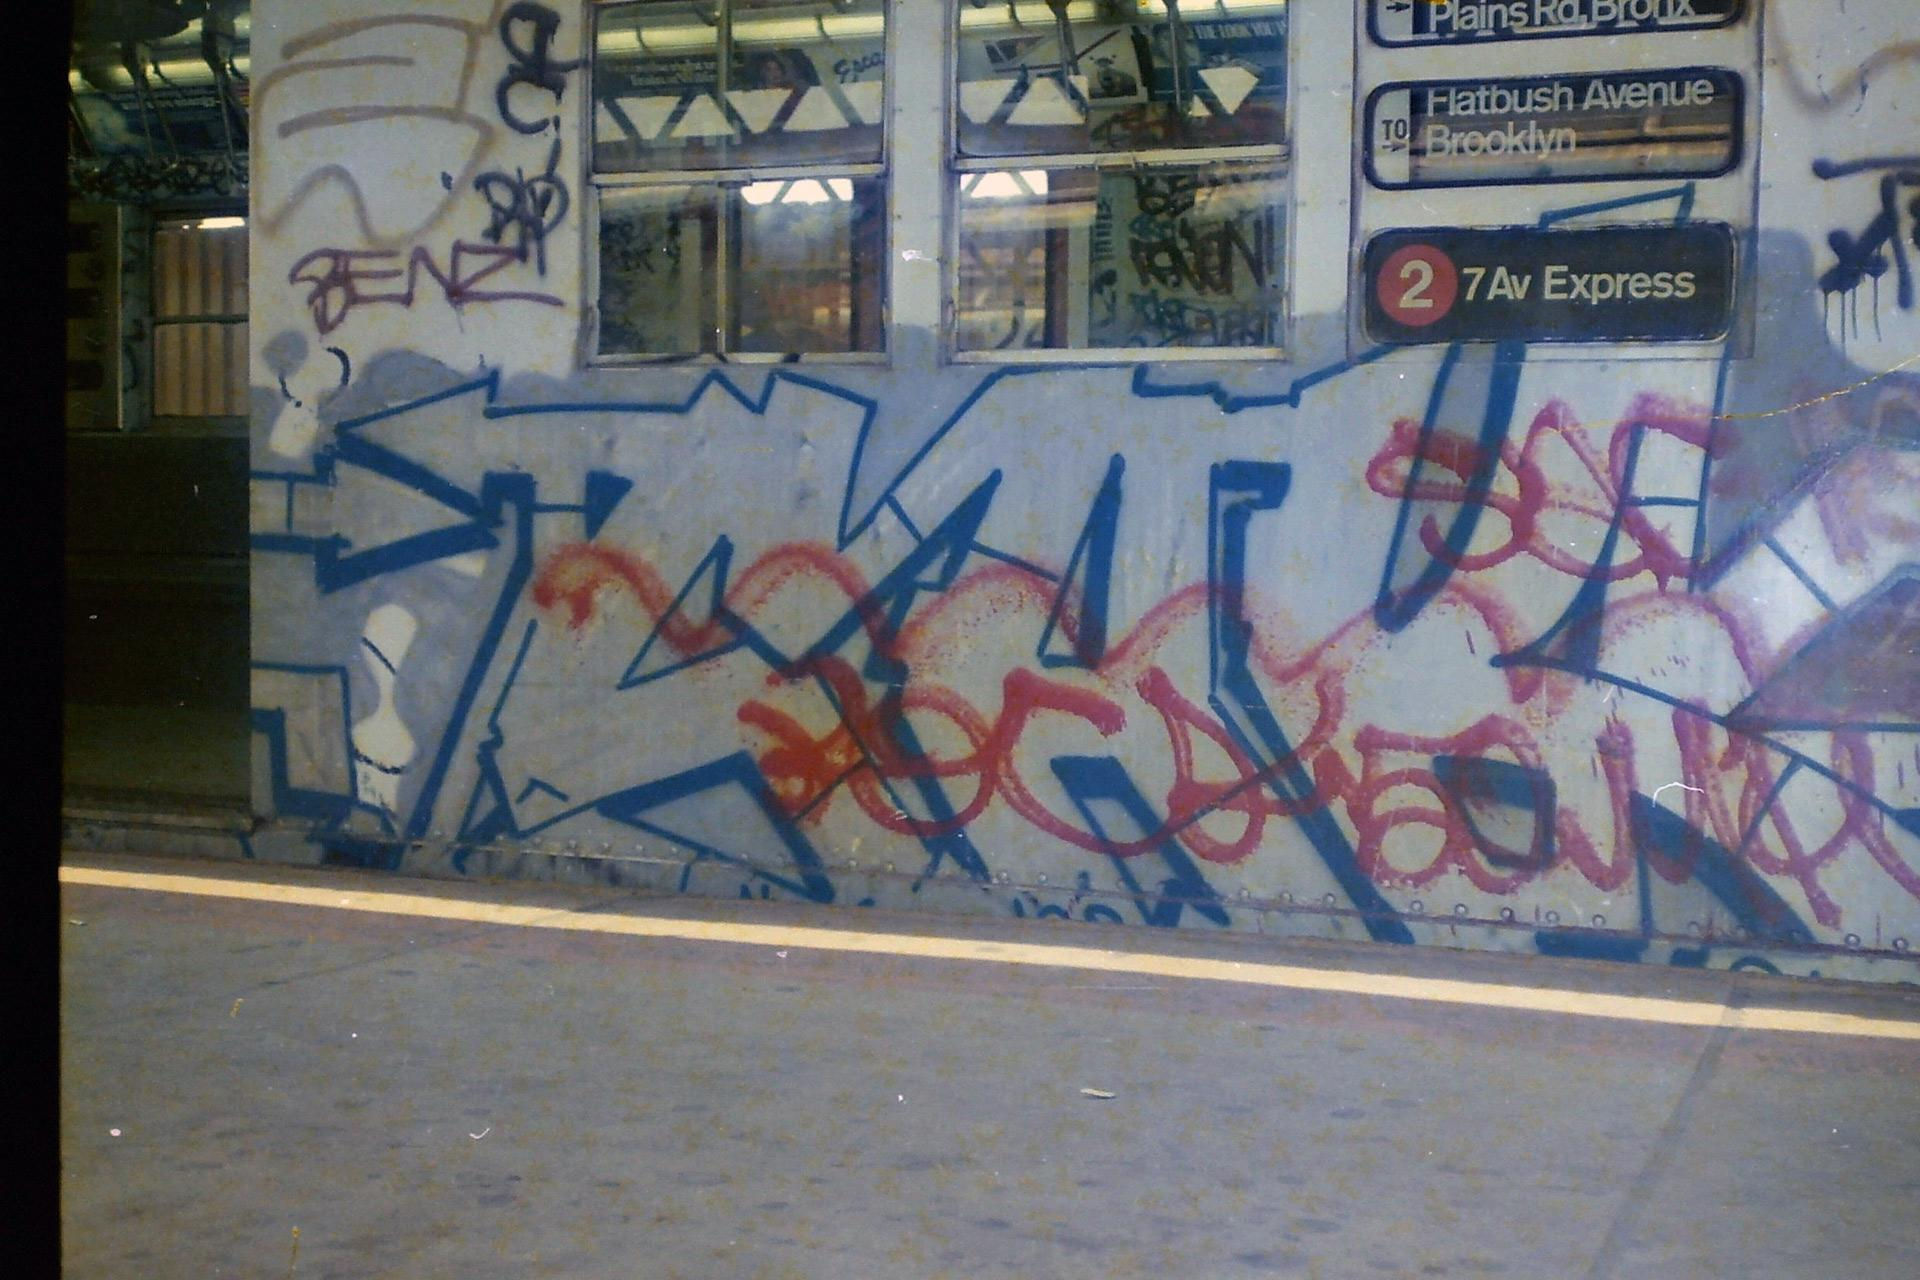graffiti: (259, 359, 1909, 974), (249, 23, 590, 237), (1097, 169, 1283, 341), (289, 237, 560, 326), (69, 140, 254, 210), (123, 206, 146, 420)
pothole: (1761, 23, 1920, 351)
